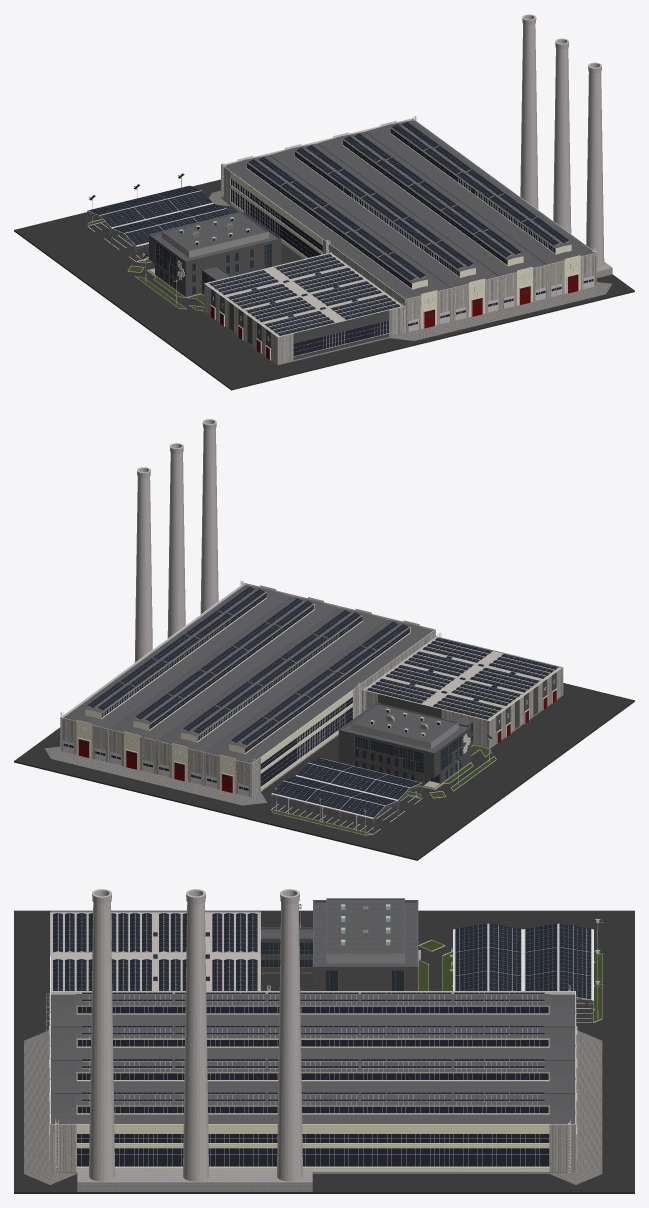
Rendered from fabrica2_lev3.glb.
3 views of the same model, one above another, from view 1: azimuth 30°, elevation 25°; view 2: azimuth 150°, elevation 25°; view 3: azimuth 270°, elevation 25° (orthographic). The views are drawn at different scales.
Parts seen in each view (by area): view 1: object 9, object 53, object 6, object 20, object 47, object 49, object 51, object 5, object 7, object 52, object 11, object 28 (+13 smaller); view 2: object 9, object 53, object 6, object 20, object 49, object 47, object 5, object 51, object 7, object 52, object 11, object 28 (+13 smaller); view 3: object 9, object 53, object 47, object 20, object 6, object 5, object 50, object 11, object 28, object 44, object 10, object 7 (+14 smaller).
Boxes of the visible parts, box(x1,y1,x2,y2) form: object 9: box(152, 120, 592, 299); object 53: box(14, 179, 634, 390); object 6: box(209, 122, 569, 335); object 20: box(520, 14, 604, 267); object 47: box(211, 128, 593, 356); object 49: box(204, 165, 596, 363); object 51: box(149, 235, 389, 359); object 5: box(88, 185, 230, 245); object 7: box(206, 253, 403, 336); object 52: box(246, 128, 580, 328); object 11: box(209, 190, 612, 340); object 28: box(87, 132, 555, 356); object 9: box(61, 585, 471, 765); object 53: box(14, 630, 634, 860); object 6: box(87, 586, 558, 745); object 20: box(134, 419, 218, 662); object 49: box(60, 630, 563, 797); object 47: box(63, 593, 556, 790); object 5: box(272, 758, 420, 817); object 51: box(338, 672, 556, 785); object 7: box(364, 637, 561, 720); object 52: box(76, 592, 410, 793); object 11: box(44, 746, 267, 805); object 28: box(101, 595, 421, 833); object 9: box(51, 900, 575, 1123); object 53: box(14, 910, 634, 1193); object 47: box(77, 932, 549, 1166); object 20: box(89, 889, 302, 1181); object 6: box(53, 913, 544, 1101); object 5: box(455, 923, 591, 999); object 50: box(76, 1124, 549, 1171); object 11: box(24, 1030, 602, 1184); object 28: box(50, 929, 594, 1167); object 44: box(50, 905, 600, 1124); object 10: box(52, 955, 573, 1191); object 7: box(51, 913, 259, 990).
Bounding box in the file's own units: 248 × 121 × 231.
42 materials, 19 textured.
